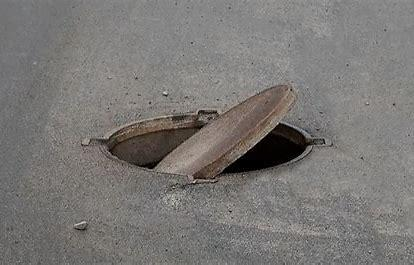wellcover: (66, 67, 346, 198)
